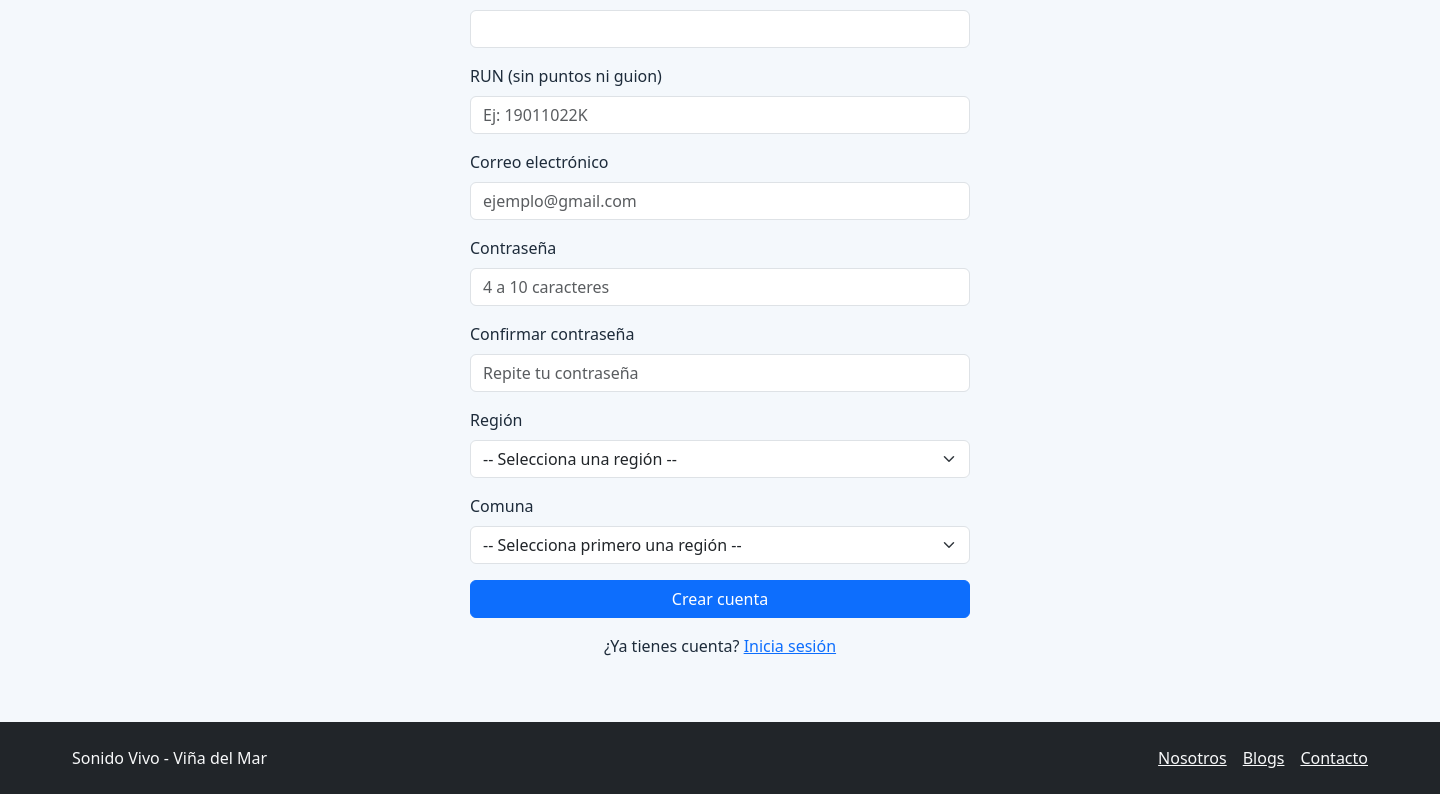
it: Registro › con el formulario vacío muestra errores en cada campo
(page scrolled)
Click the button "Crear cuenta": [720, 599] box [470,580,970,618]
(page scrolled)
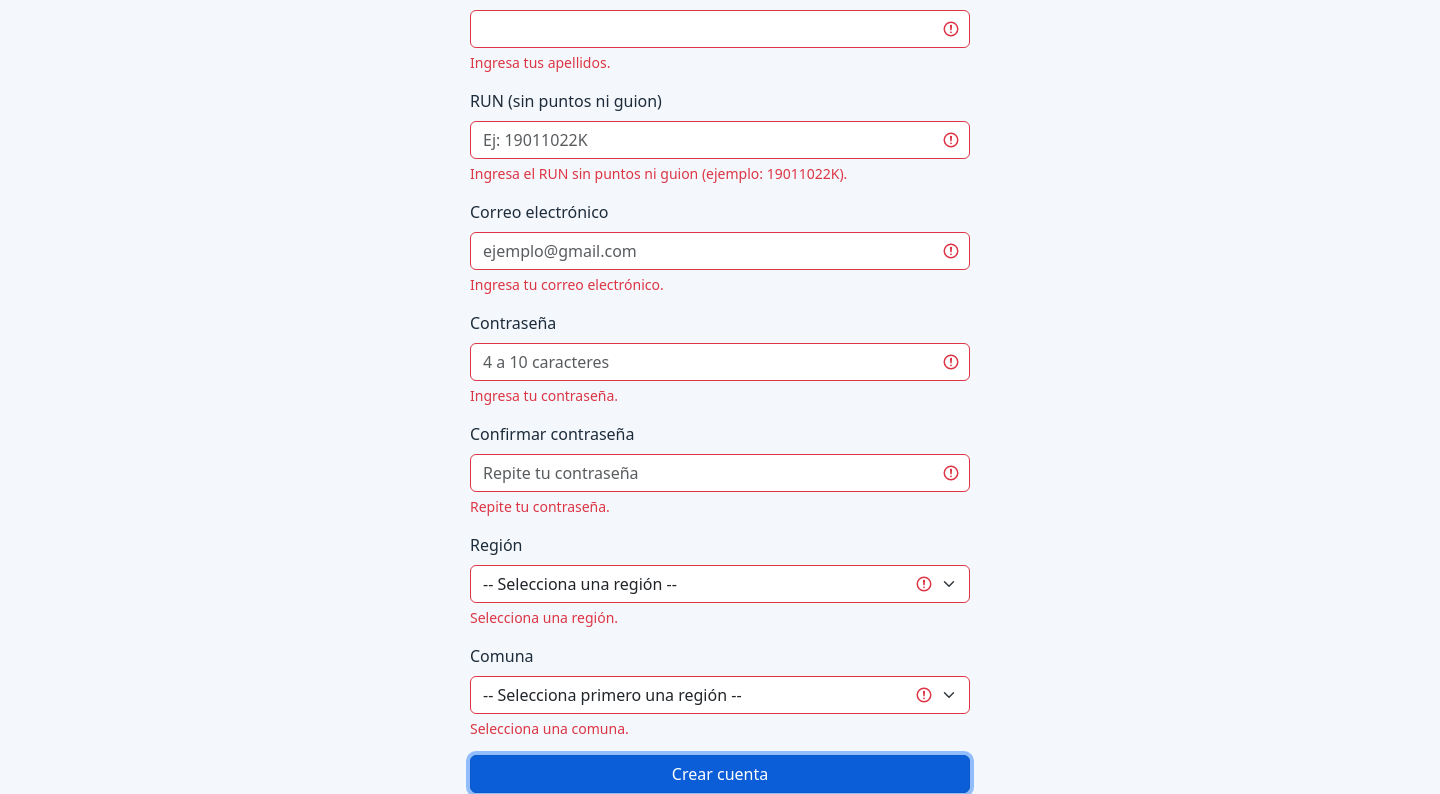
Check: the text "Selecciona una región." is shown, box [470,608,618,627]
Check: the text "Selecciona una comuna." is shown, box [470,719,629,738]
